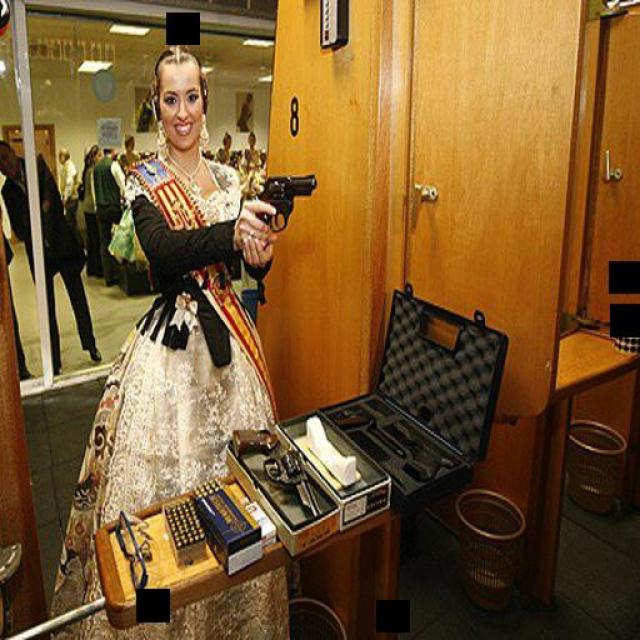gun: (236, 168, 320, 274)
